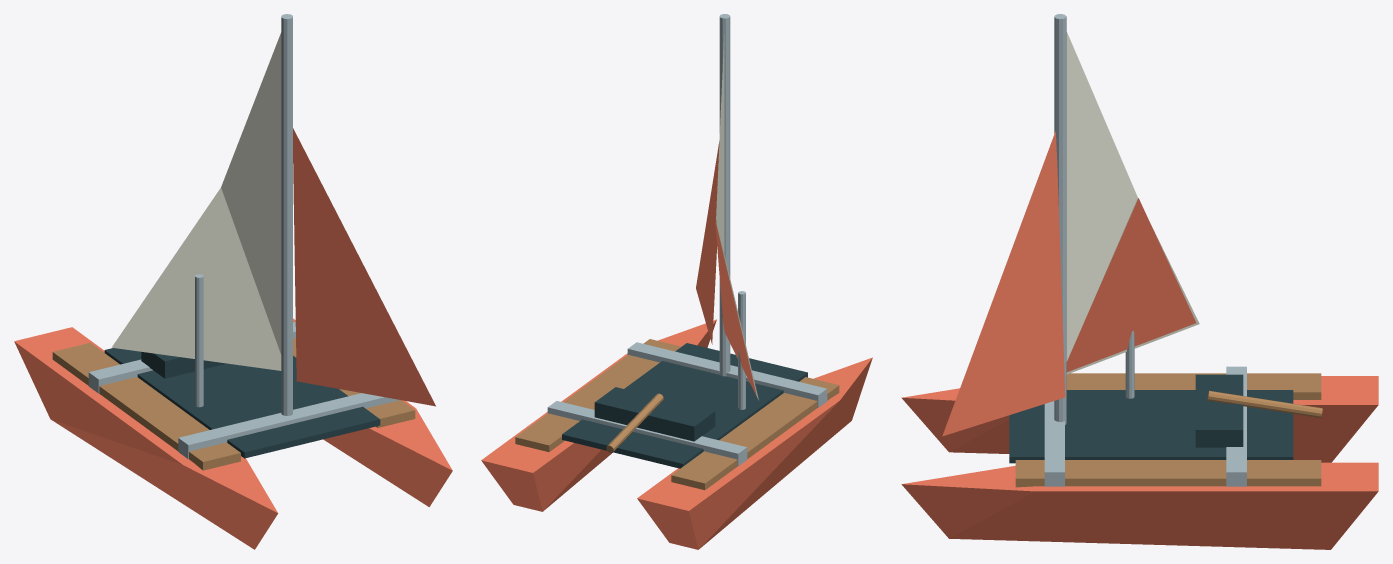
The model's file is sail-catamaran.glb.
The picture shows the model from 3 angles, left to right: view 1: azimuth 30°, elevation 25°; view 2: azimuth 150°, elevation 25°; view 3: azimuth 270°, elevation 25°; orthographic projection. The views are drawn at different scales.
Parts seen in each view (by area): view 1: Main sail.001, Jib.001, Pointed racing hull.001, Trampoline deck, Pointed racing hull.002, Teak deck.001, Tall mast.001, Twin hull crossbeam, Sail boom.001, Crew seat.001, Twin hull crossbeam.001, Teak deck.002; view 2: Pointed racing hull.001, Trampoline deck, Pointed racing hull.002, Teak deck.001, Crew seat.001, Teak deck.002, Tall mast.001, Twin hull crossbeam, Jib.001, Twin hull crossbeam.001, Colour sail panel.001, Main sail.001 (+2 smaller); view 3: Pointed racing hull.002, Jib.001, Trampoline deck, Main sail.001, Colour sail panel.001, Pointed racing hull.001, Teak deck.002, Teak deck.001, Tall mast.001, Crew seat.001, Twin hull crossbeam, Twin hull crossbeam.001 (+2 smaller).
Part boxes in pixels (bbox=[...]): Main sail.001: bbox=[112, 32, 281, 370]; Jib.001: bbox=[293, 128, 435, 406]; Pointed racing hull.001: bbox=[14, 327, 278, 549]; Trampoline deck: bbox=[104, 348, 380, 458]; Pointed racing hull.002: bbox=[293, 318, 452, 507]; Teak deck.001: bbox=[52, 342, 240, 470]; Tall mast.001: bbox=[281, 14, 292, 415]; Twin hull crossbeam: bbox=[178, 393, 399, 459]; Sail boom.001: bbox=[195, 274, 203, 407]; Crew seat.001: bbox=[141, 352, 226, 378]; Twin hull crossbeam.001: bbox=[88, 322, 295, 393]; Teak deck.002: bbox=[293, 321, 415, 427]; Pointed racing hull.001: bbox=[637, 357, 872, 549]; Trampoline deck: bbox=[562, 343, 807, 468]; Pointed racing hull.002: bbox=[481, 319, 716, 511]; Teak deck.001: bbox=[671, 377, 839, 490]; Crew seat.001: bbox=[594, 387, 715, 441]; Teak deck.002: bbox=[515, 339, 681, 451]; Tall mast.001: bbox=[719, 14, 730, 376]; Twin hull crossbeam: bbox=[627, 342, 827, 407]; Jib.001: bbox=[696, 140, 719, 344]; Twin hull crossbeam.001: bbox=[547, 401, 747, 466]; Colour sail panel.001: bbox=[715, 219, 756, 395]; Main sail.001: bbox=[716, 35, 758, 400]; Pointed racing hull.002: bbox=[901, 462, 1378, 549]; Jib.001: bbox=[942, 131, 1065, 436]; Trampoline deck: bbox=[1009, 390, 1293, 463]; Main sail.001: bbox=[1066, 32, 1199, 374]; Colour sail panel.001: bbox=[1066, 198, 1196, 371]; Pointed racing hull.001: bbox=[901, 376, 1378, 462]; Teak deck.002: bbox=[1015, 460, 1321, 487]; Teak deck.001: bbox=[1066, 373, 1321, 399]; Tall mast.001: bbox=[1054, 14, 1066, 424]; Crew seat.001: bbox=[1195, 374, 1243, 447]; Twin hull crossbeam: bbox=[1044, 401, 1064, 486]; Twin hull crossbeam.001: bbox=[1226, 366, 1246, 486].
Size of the model in its own units: 2.4 by 4.68 by 4.2.
